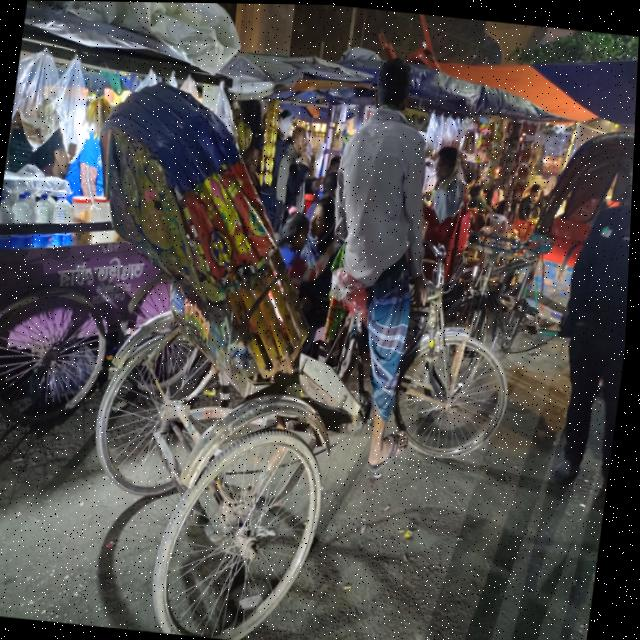rikshaw: (89, 90, 562, 640), (471, 83, 637, 361)
